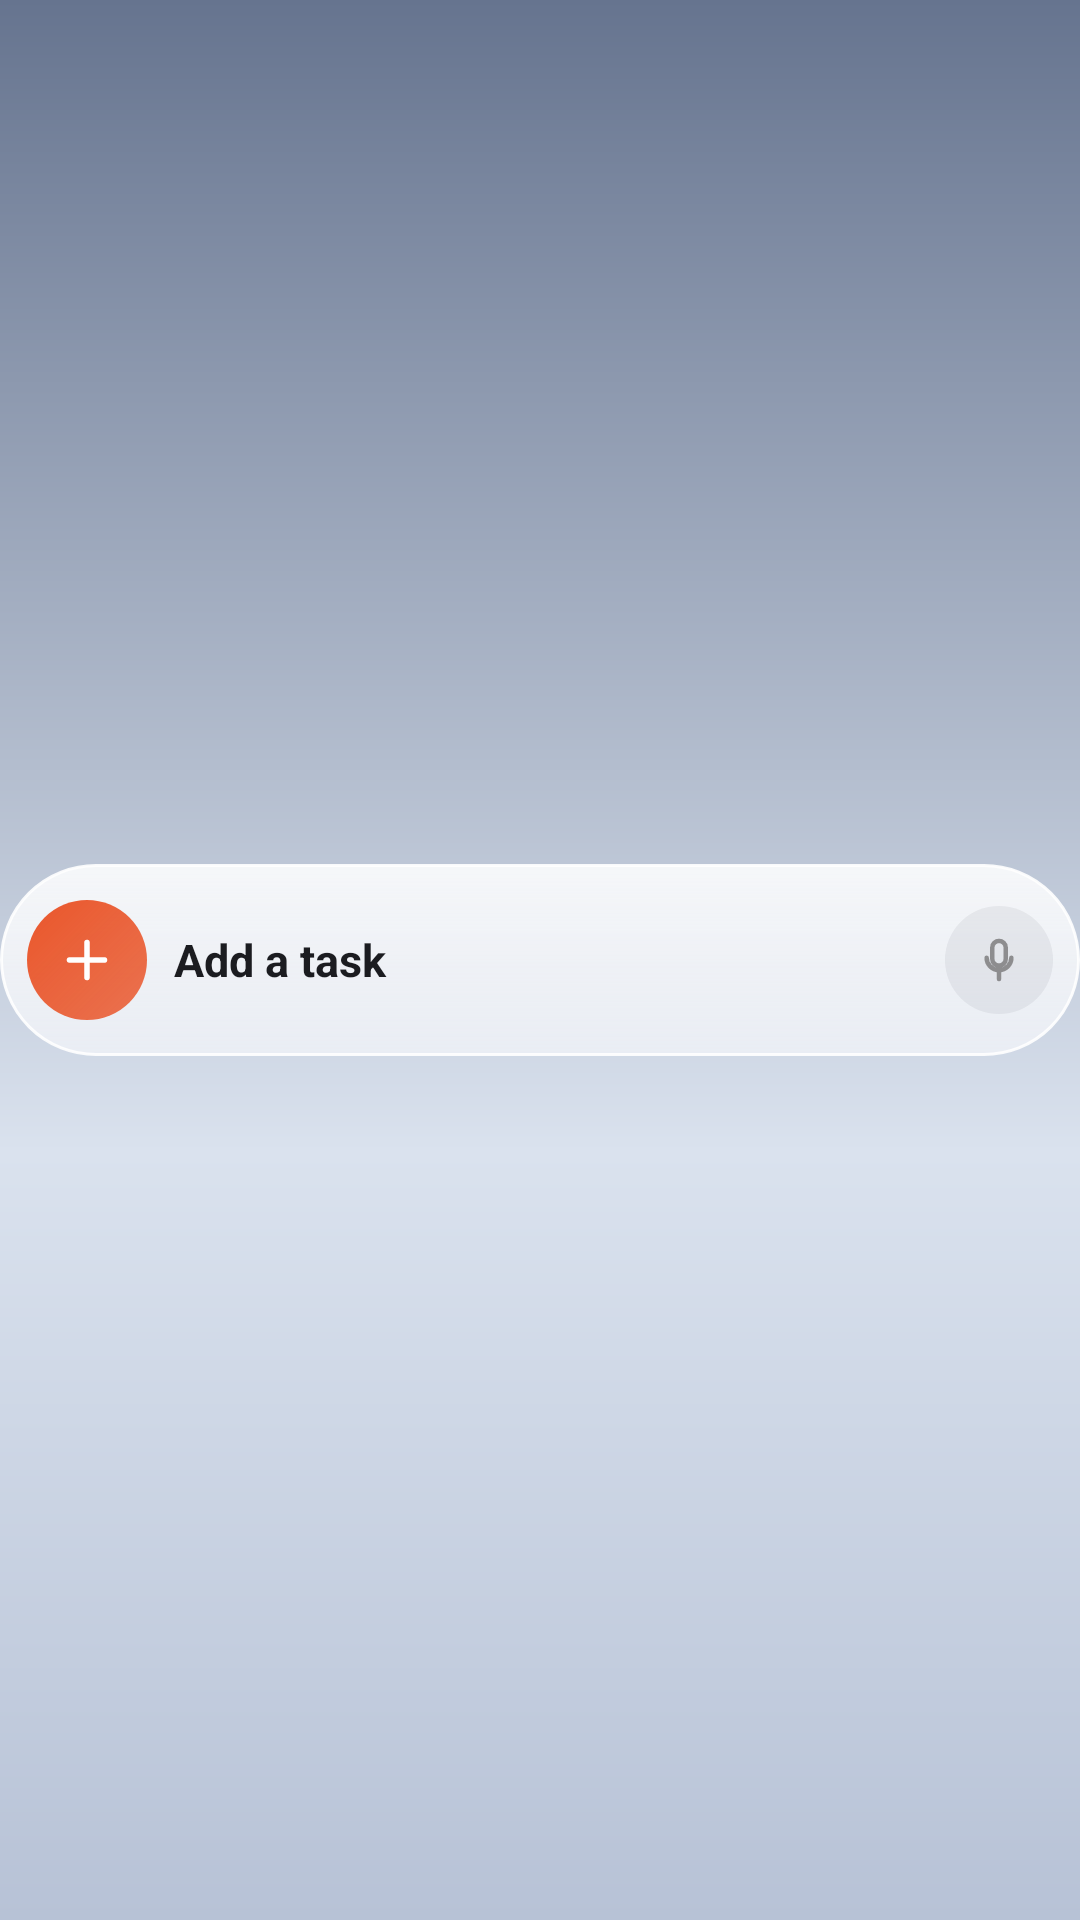

Locate icon controls on the screen. Image size 1080 × 1920, boxes as (x1, y1, x2, y2).
widget mic: (984, 939, 1014, 981)
widget plus: (66, 939, 108, 981)
